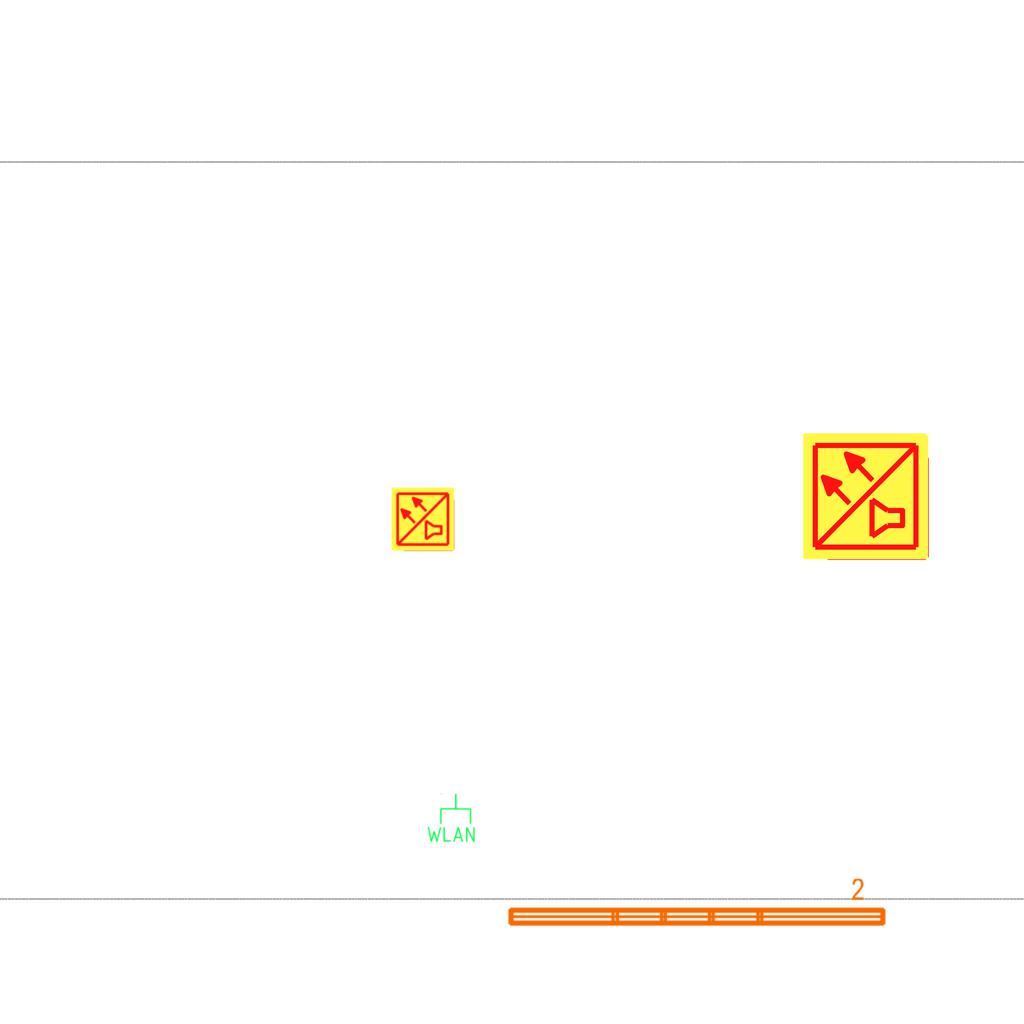Ambulanz_Pendelleuchte_LED: (503, 876, 890, 932)
OKW_Multisensormelder_(Kombination_optischer_Rauch-Kahlenmonoxid_Waerme-Melder): (800, 430, 932, 562), (390, 486, 456, 552)
WLAN: (425, 792, 477, 844)
